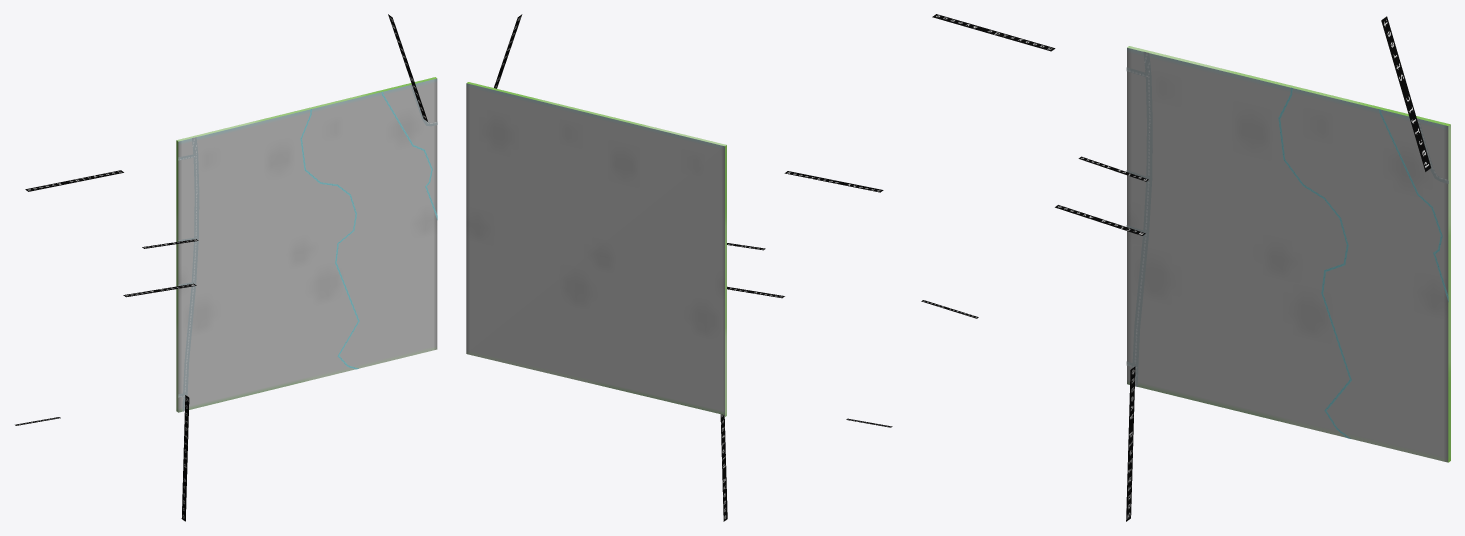
File: stamford28.gltf
3 renders of one model, left to right at view 1: azimuth 30°, elevation 25°; view 2: azimuth 150°, elevation 25°; view 3: azimuth 330°, elevation 25°, orthographic. The views are drawn at different scales.
Parts seen in each view (by area): view 1: POLYGON, POLYLINE, FONT; view 2: POLYGON, FONT; view 3: POLYGON, POLYLINE, FONT.
Boxes of the visible parts, bbox=[...] form: POLYGON: bbox=[176, 77, 437, 412]; POLYLINE: bbox=[178, 84, 437, 411]; FONT: bbox=[15, 14, 427, 521]; POLYGON: bbox=[466, 82, 726, 416]; FONT: bbox=[494, 14, 892, 521]; POLYGON: bbox=[1127, 46, 1450, 462]; POLYLINE: bbox=[1126, 51, 1448, 438]; FONT: bbox=[921, 14, 1430, 521].
Size of the model in its own units: 998 by 1025 by 27.24.
Materials: 2 (2 with a texture image).
